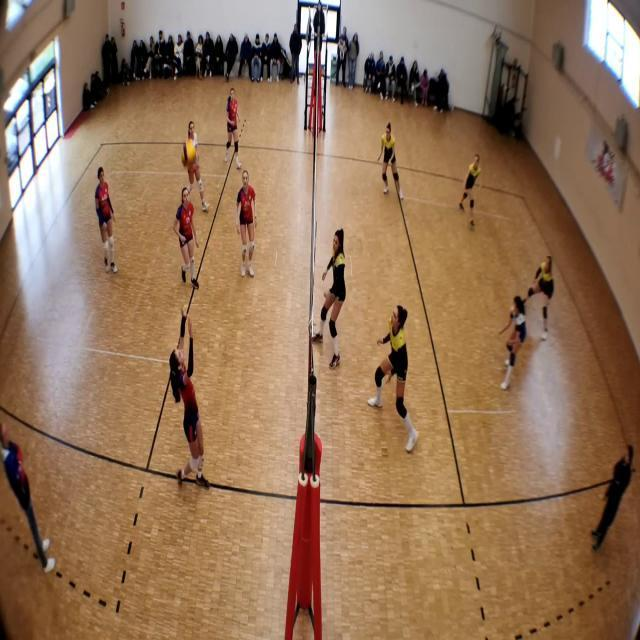volleyball: (180, 140, 197, 168)
